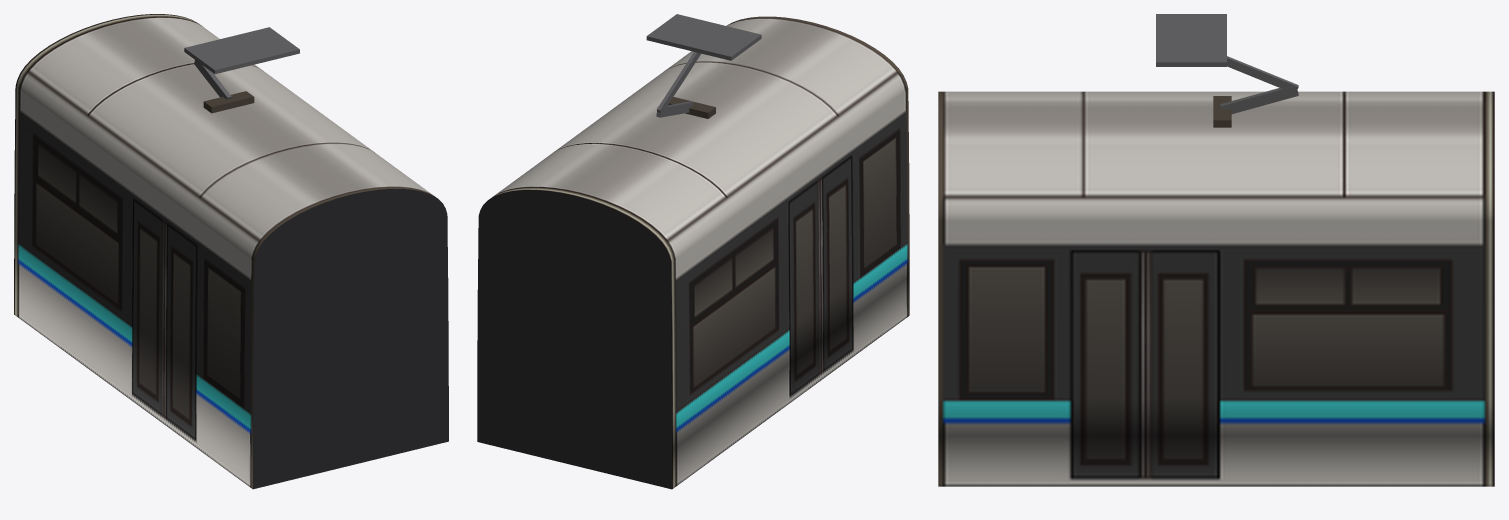
The model's file is car2.glb.
3 renders of one model, left to right at view 1: azimuth 30°, elevation 25°; view 2: azimuth 150°, elevation 25°; view 3: azimuth 270°, elevation 25°, orthographic. The views are drawn at different scales.
Parts seen in each view (by area): view 1: Nagasaki3000_car2; view 2: Nagasaki3000_car2; view 3: Nagasaki3000_car2.
Boxes of the visible parts, box(x1,y1,x2,y2) form: Nagasaki3000_car2: box(14, 14, 448, 489); Nagasaki3000_car2: box(477, 14, 909, 489); Nagasaki3000_car2: box(938, 14, 1494, 486).
Size of the model in its own units: 2.3 by 3.97 by 4.85.
5 materials, 5 textured.
